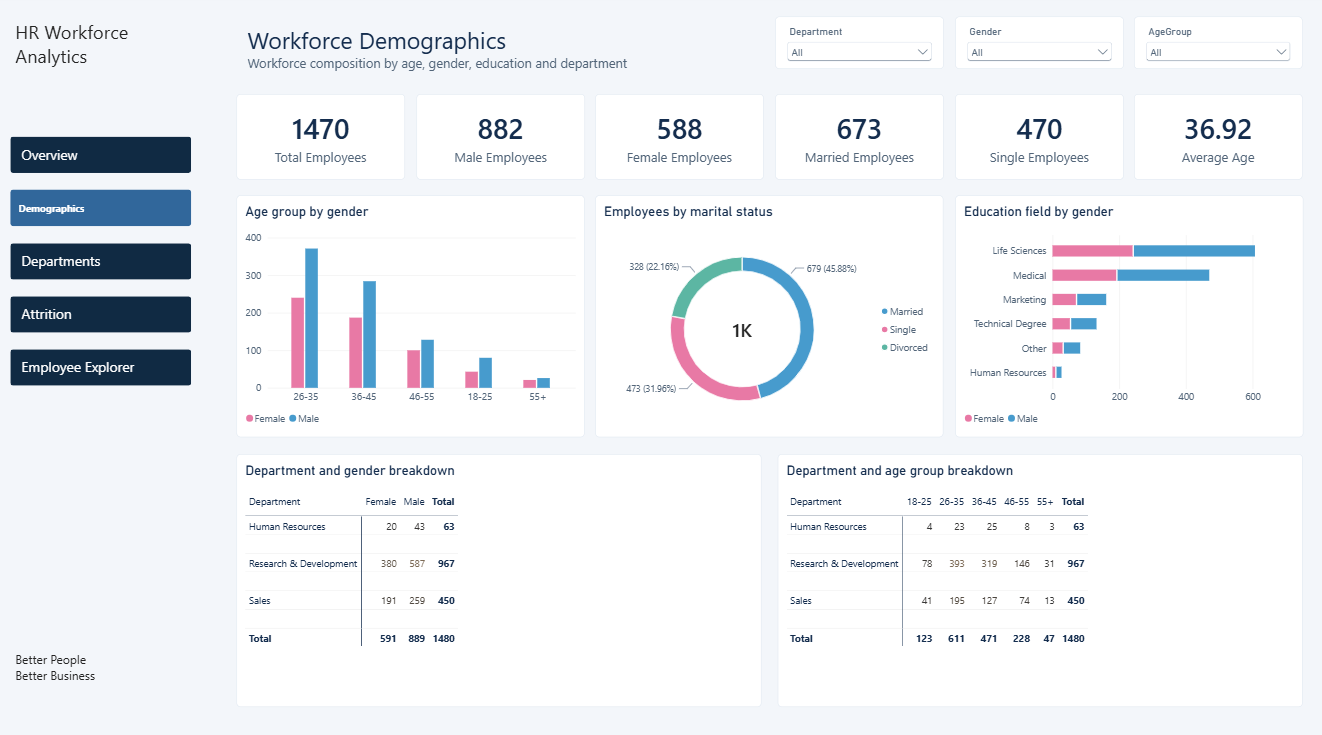

This screenshot's page, from the dashboard's own definition file:
{"tool":"powerbi","page":{"name":"Demographics","canvas":[1920,1080],"ordinal":1},"visuals":[{"type":"textbox","box":[0,0,304,1080],"z":-1000},{"type":"card","fields":{"Values":["Employees.Total Employees"]},"box":[344,144,244,124],"z":0},{"type":"card","fields":{"Values":["Employees.Male Employees"]},"box":[604,144,244,124],"z":1000},{"type":"card","fields":{"Values":["Employees.Female Employees"]},"box":[864,144,244,124],"z":2000},{"type":"card","fields":{"Values":["Employees.Married Employees"]},"box":[1124,144,244,124],"z":3000},{"type":"card","fields":{"Values":["Employees.Single Employees"]},"box":[1384,144,244,124],"z":4000},{"type":"card","fields":{"Values":["Employees.Average Age"]},"box":[1644,144,244,124],"z":5000},{"type":"clusteredColumnChart","title":"Age group by gender","fields":{"Category":["Employees.AgeGroup"],"Series":["Employees.Gender"],"Y":["Sum(Employees.EmployeeCount)"]},"box":[344,292,504,350],"z":6000},{"type":"donutChart","title":"Employees by marital status","fields":{"Category":["Employees.MaritalStatus"],"Y":["Sum(Employees.EmployeeCount)"]},"box":[864,292,504,350],"z":7000},{"type":"slicer","fields":{"Values":["Employees.Department"]},"box":[1124,32,244,76],"z":8000},{"type":"slicer","fields":{"Values":["Employees.Gender"]},"box":[1384,32,244,76],"z":8000},{"type":"slicer","fields":{"Values":["Employees.AgeGroup"]},"box":[1644,32,244,76],"z":8000},{"type":"barChart","title":"Education field by gender","fields":{"Category":["Employees.EducationField"],"Series":["Employees.Gender"],"Y":["Sum(Employees.EmployeeCount)"]},"box":[1384,292,504,350],"z":8000},{"type":"pivotTable","title":"Department and gender breakdown","fields":{"Columns":["Employees.Gender"],"Rows":["Employees.Department"],"Values":["Sum(Employees.EmployeeCount)"]},"box":[344,666,760,366],"z":9000},{"type":"pivotTable","title":"Department and age group breakdown","fields":{"Columns":["Employees.AgeGroup"],"Rows":["Employees.Department"],"Values":["Sum(Employees.EmployeeCount)"]},"box":[1128,666,760,366],"z":10000},{"type":"textbox","box":[343.8,27.1,763.7,101.3],"z":11000},{"type":"textbox","box":[24,36,256,108],"z":20000},{"type":"pageNavigator","box":[16.3,206.3,262.4,361.9],"z":20000},{"type":"textbox","box":[24,952,256,104],"z":20000}]}

Visuals, with their boxes in screenshot pixels (x1, y1, x2, y2), scaled from the page's 1920x1080 canvas onto the 1322x735 screenshot:
textbox: pyautogui.locateOnScreen(0, 0, 209, 734)
card - Employees.Total Employees: pyautogui.locateOnScreen(237, 98, 405, 182)
card - Employees.Male Employees: pyautogui.locateOnScreen(416, 98, 584, 182)
card - Employees.Female Employees: pyautogui.locateOnScreen(595, 98, 763, 182)
card - Employees.Married Employees: pyautogui.locateOnScreen(774, 98, 942, 182)
card - Employees.Single Employees: pyautogui.locateOnScreen(953, 98, 1121, 182)
card - Employees.Average Age: pyautogui.locateOnScreen(1132, 98, 1300, 182)
"Age group by gender" clusteredColumnChart: pyautogui.locateOnScreen(237, 199, 584, 437)
"Employees by marital status" donutChart: pyautogui.locateOnScreen(595, 199, 942, 437)
slicer - Employees.Department: pyautogui.locateOnScreen(774, 22, 942, 74)
slicer - Employees.Gender: pyautogui.locateOnScreen(953, 22, 1121, 74)
slicer - Employees.AgeGroup: pyautogui.locateOnScreen(1132, 22, 1300, 74)
"Education field by gender" barChart: pyautogui.locateOnScreen(953, 199, 1300, 437)
"Department and gender breakdown" pivotTable: pyautogui.locateOnScreen(237, 453, 760, 702)
"Department and age group breakdown" pivotTable: pyautogui.locateOnScreen(777, 453, 1300, 702)
textbox: pyautogui.locateOnScreen(237, 18, 763, 87)
textbox: pyautogui.locateOnScreen(17, 24, 193, 98)
pageNavigator: pyautogui.locateOnScreen(11, 140, 192, 387)
textbox: pyautogui.locateOnScreen(17, 648, 193, 719)
